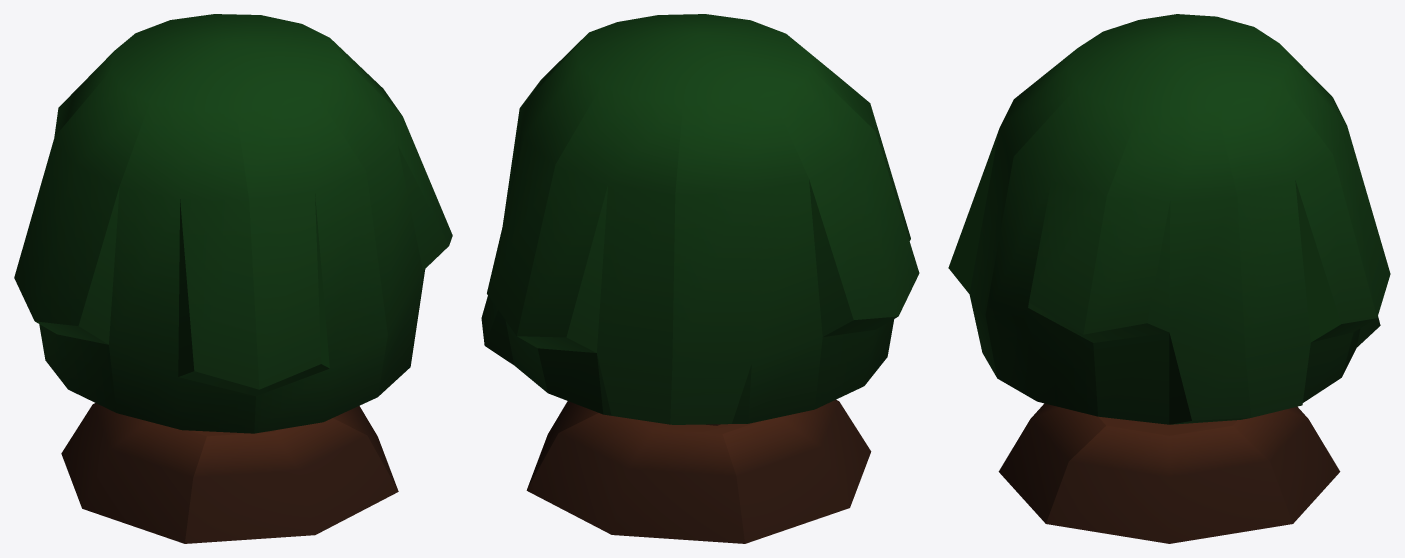
Rendered from BlueBerrySmall.fbx.
The picture shows the model from 3 angles, left to right: view 1: azimuth 30°, elevation 25°; view 2: azimuth 150°, elevation 25°; view 3: azimuth 270°, elevation 25°; orthographic projection. The views are drawn at different scales.
Visible parts, largest first — view 1: BlueBerrySmall; view 2: BlueBerrySmall; view 3: BlueBerrySmall.
Part boxes in pixels (bbox=[...]): BlueBerrySmall: bbox=[14, 14, 452, 543]; BlueBerrySmall: bbox=[481, 14, 919, 543]; BlueBerrySmall: bbox=[948, 14, 1390, 543].
Bounding box in the file's own units: 127 × 134 × 125.
